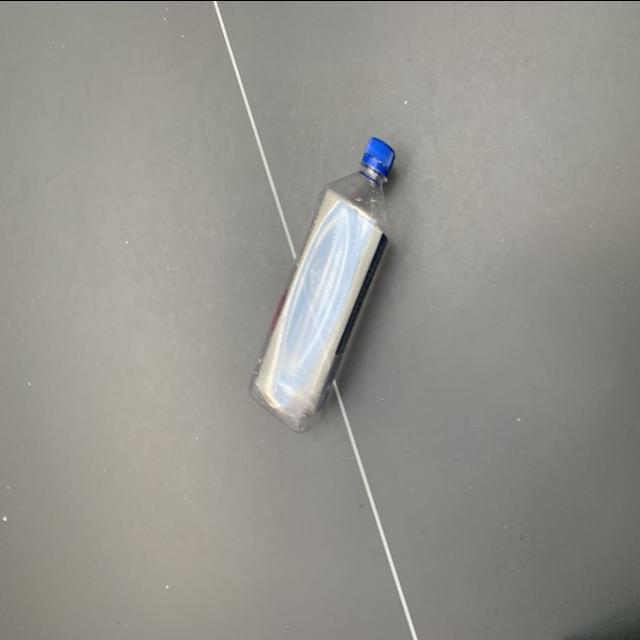litter: (244, 135, 402, 439)
